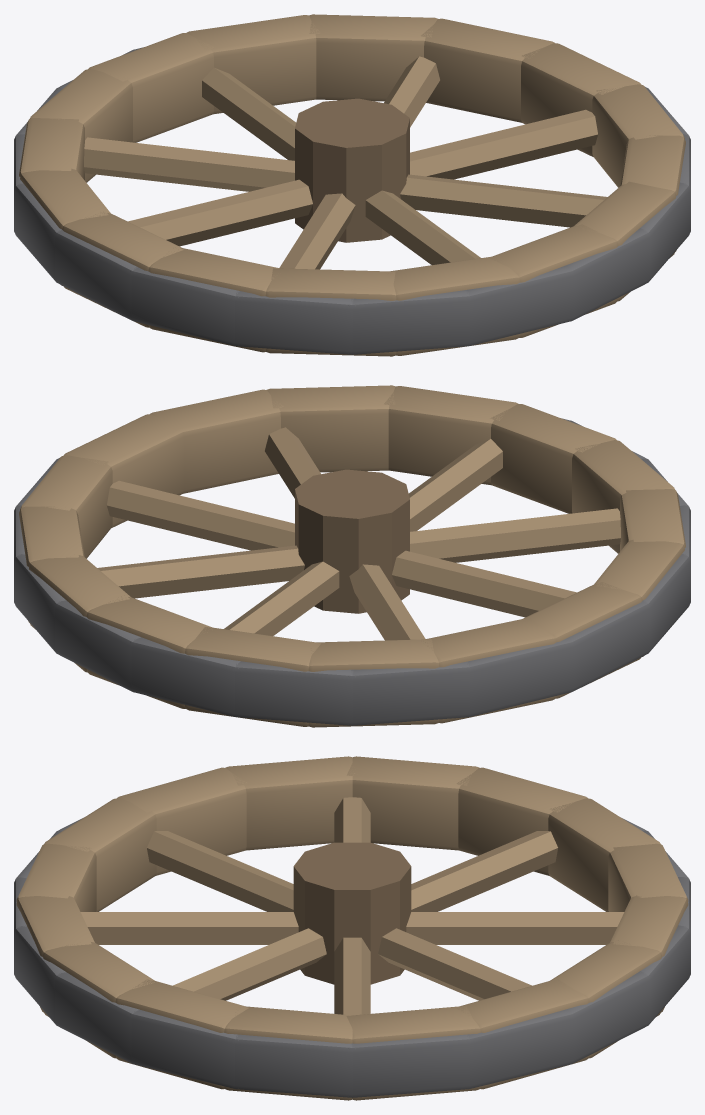
The model's file is cart_wheel.glb.
3 views of the same model, one above another, from view 1: azimuth 30°, elevation 25°; view 2: azimuth 150°, elevation 25°; view 3: azimuth 270°, elevation 25° (orthographic).
Parts seen in each view (by area): view 1: cart_wheel; view 2: cart_wheel; view 3: cart_wheel.
Part boxes in pixels (x1=…): cart_wheel: x1=14, y1=14, x2=690, y2=356; cart_wheel: x1=14, y1=385, x2=690, y2=727; cart_wheel: x1=14, y1=756, x2=690, y2=1100.
Size of the model in its own units: 1.05 by 0.16 by 1.04.
